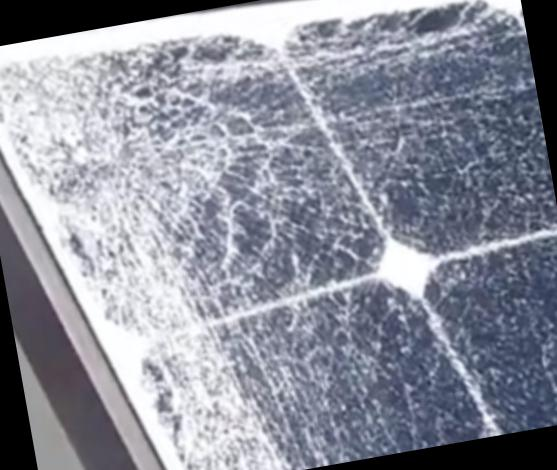Crack: (0, 0, 369, 333), (90, 296, 327, 469)
